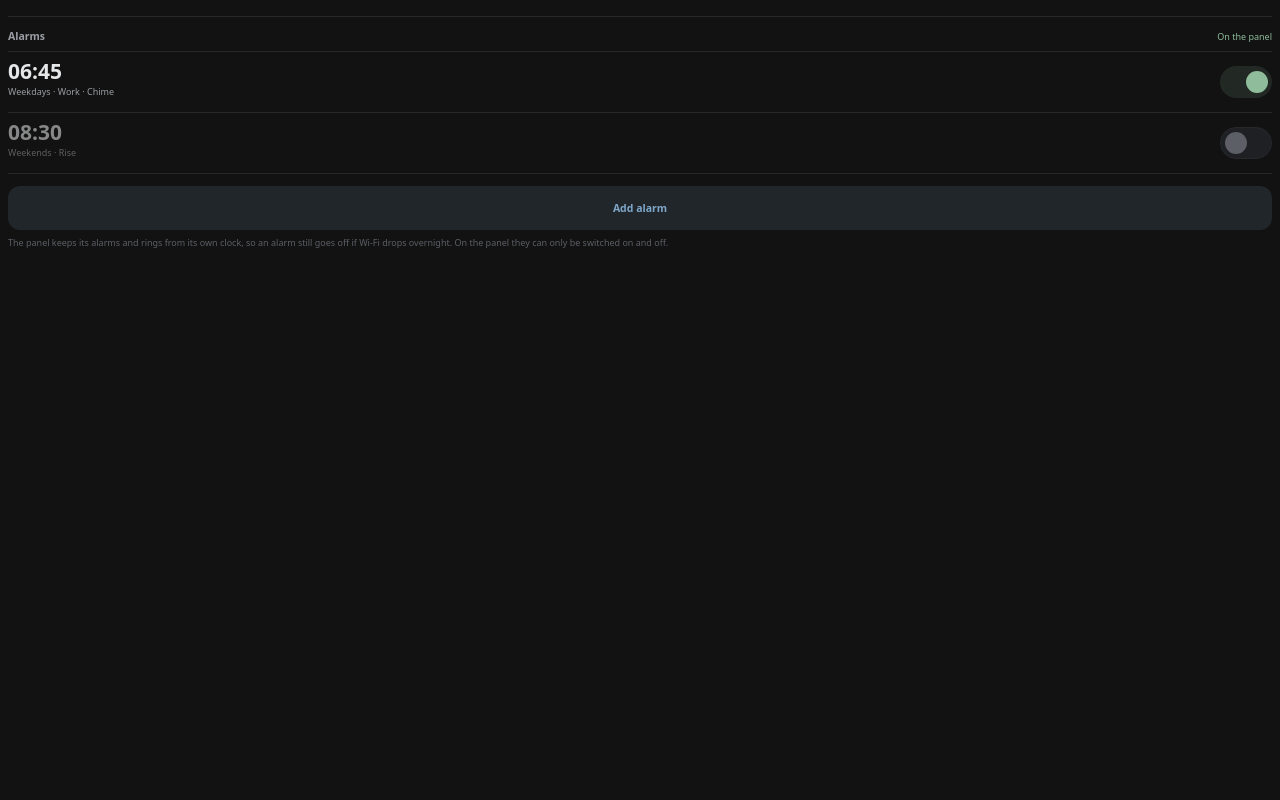
Test: the desk panel's alarms › edits an alarm's time and keeps the rest
Step 1. Click the button with aria-label "Edit alarm 06:45" → (35, 71), box [8,60,1208,104]
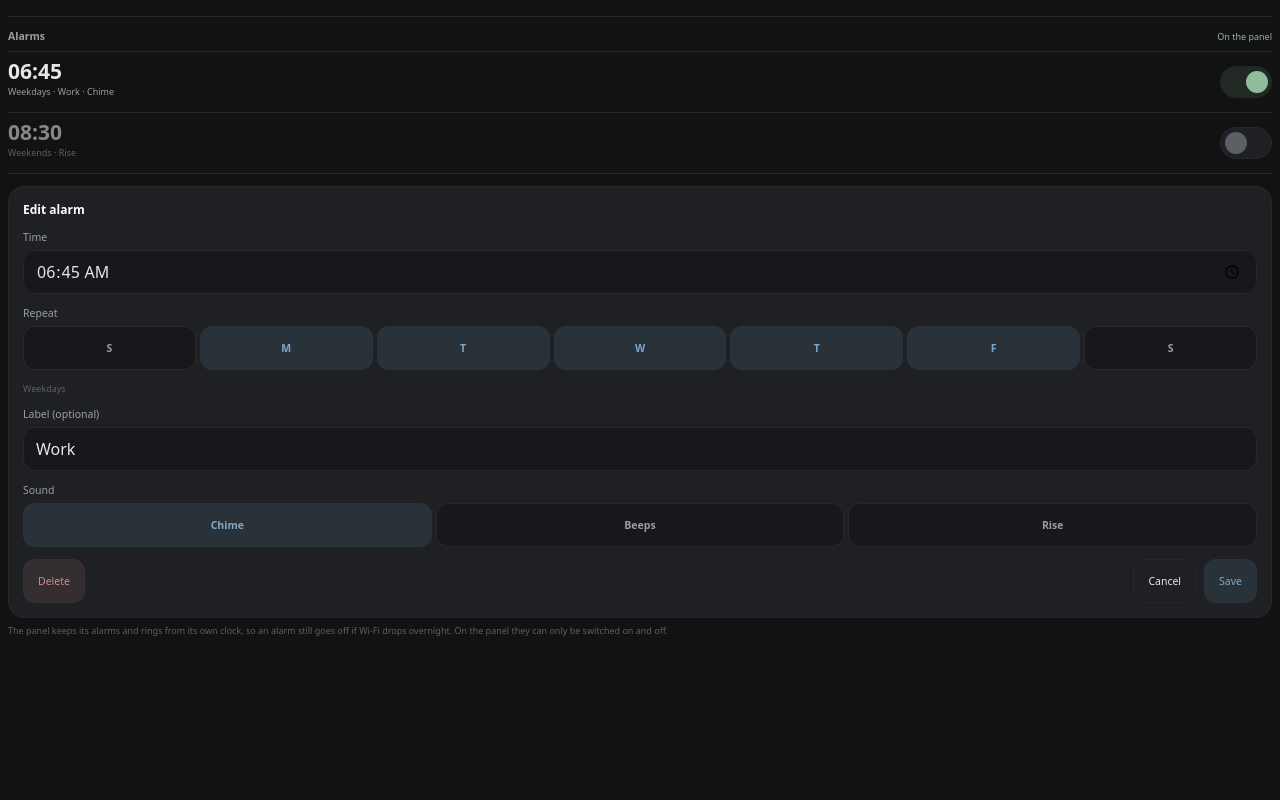
expect the text "Edit alarm" is shown: met, box [23,201,85,218]
Step 2. Replace the text in the time field labelled "Time" with "06:30" → (640, 272), box [23,250,1257,294]
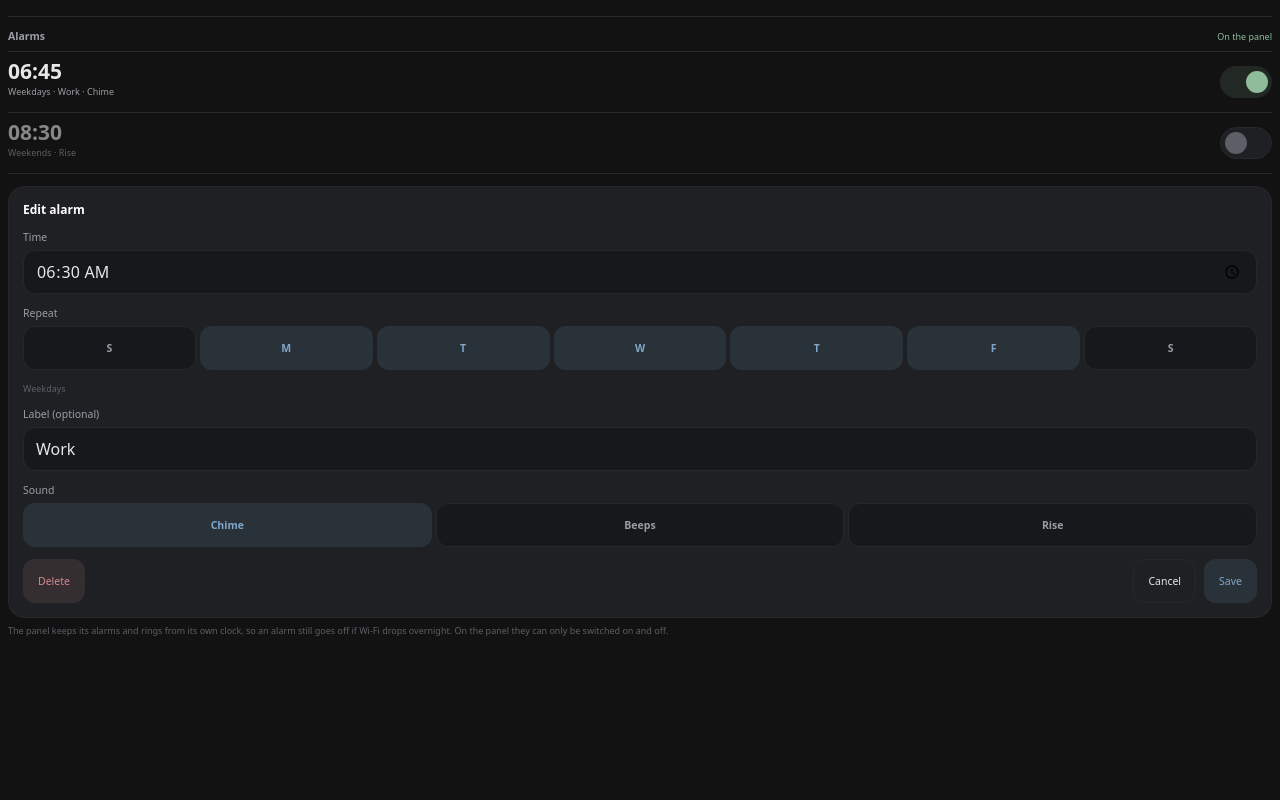
Step 3. Click the button "Save" → (1231, 581), box [1204,559,1257,603]
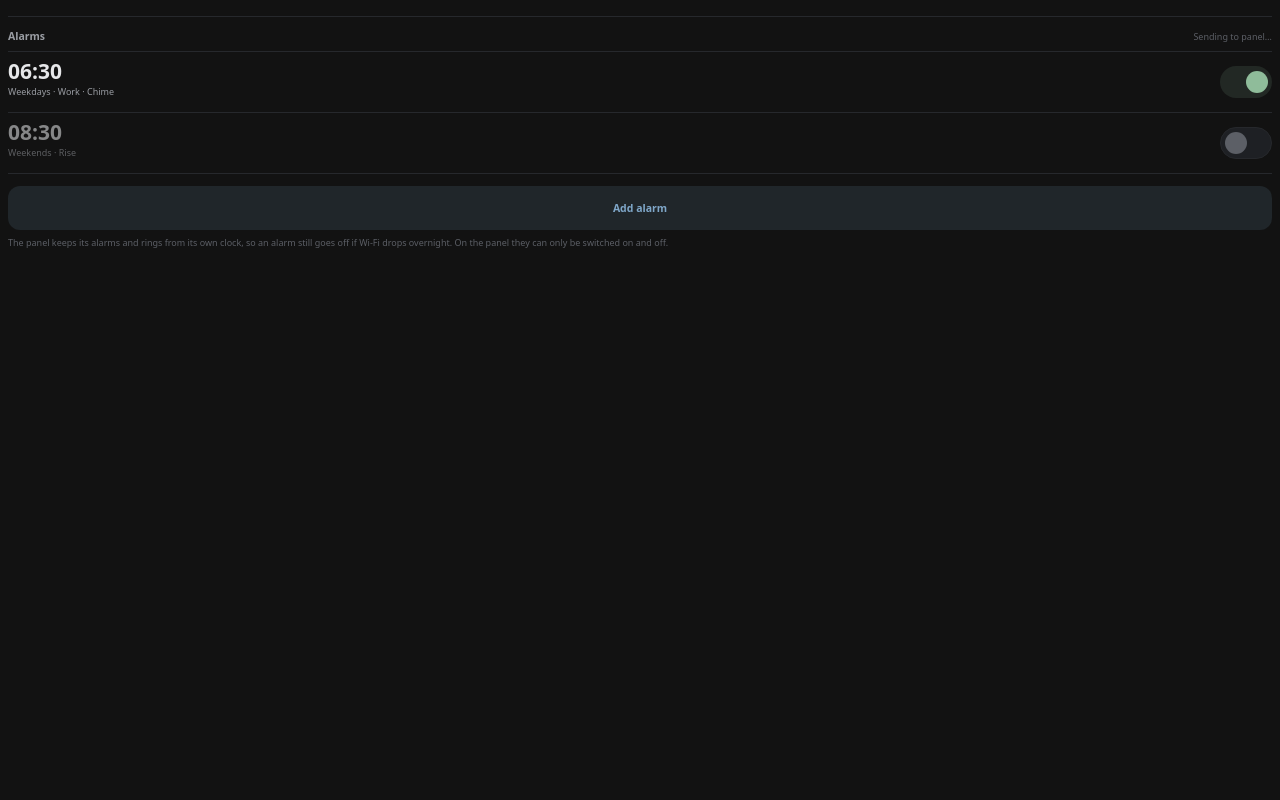
expect the text "06:30" is shown: met, box [8,60,62,83]
